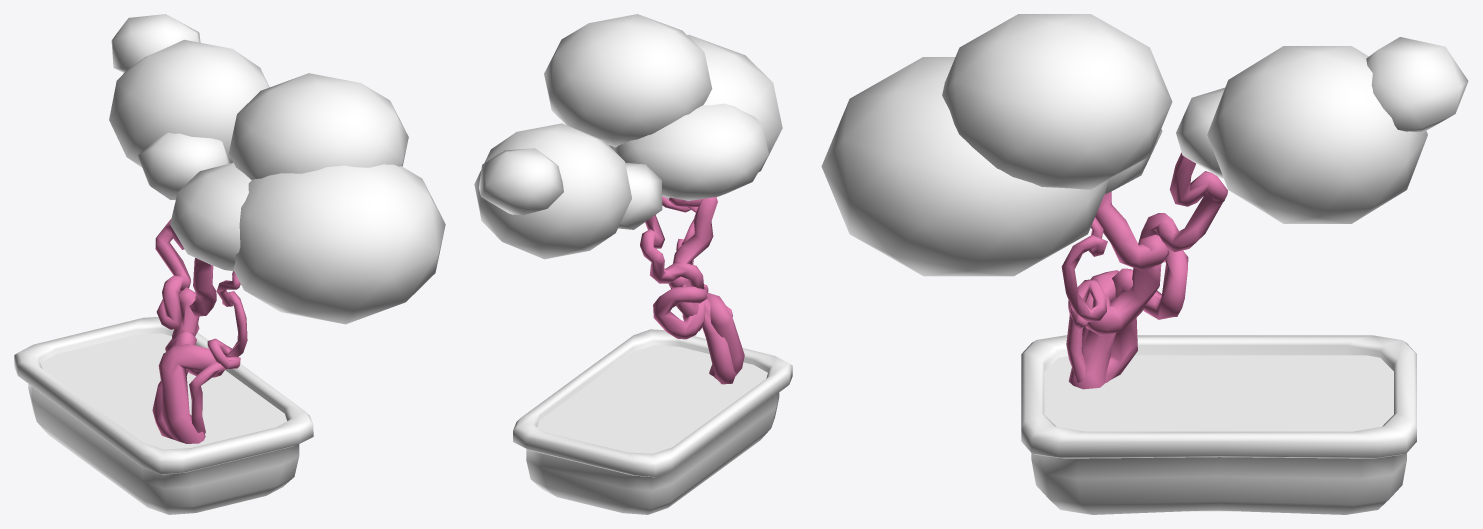
The model's file is Bonzai.fbx.
The picture shows the model from 3 angles, left to right: view 1: azimuth 30°, elevation 25°; view 2: azimuth 150°, elevation 25°; view 3: azimuth 270°, elevation 25°; orthographic projection. The views are drawn at different scales.
Visible parts, largest first — view 1: Tree; view 2: Tree; view 3: Tree.
Boxes of the visible parts, x1=… form: Tree: x1=14, y1=14, x2=445, y2=514; Tree: x1=474, y1=14, x2=792, y2=514; Tree: x1=821, y1=14, x2=1468, y2=514.
Size of the model in its own units: 31.22 by 48.16 by 54.76.
